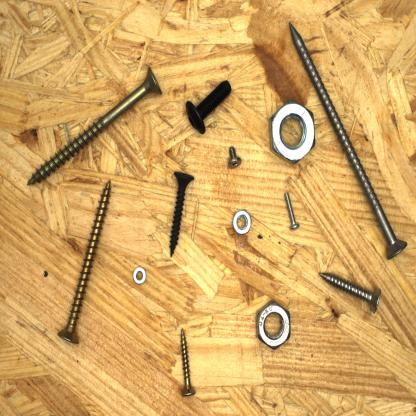screw: (286, 16, 412, 262), (23, 62, 166, 189), (55, 176, 114, 346), (316, 265, 386, 319), (183, 75, 233, 136), (168, 169, 198, 260), (176, 326, 199, 401), (281, 187, 304, 234), (224, 142, 244, 172)
